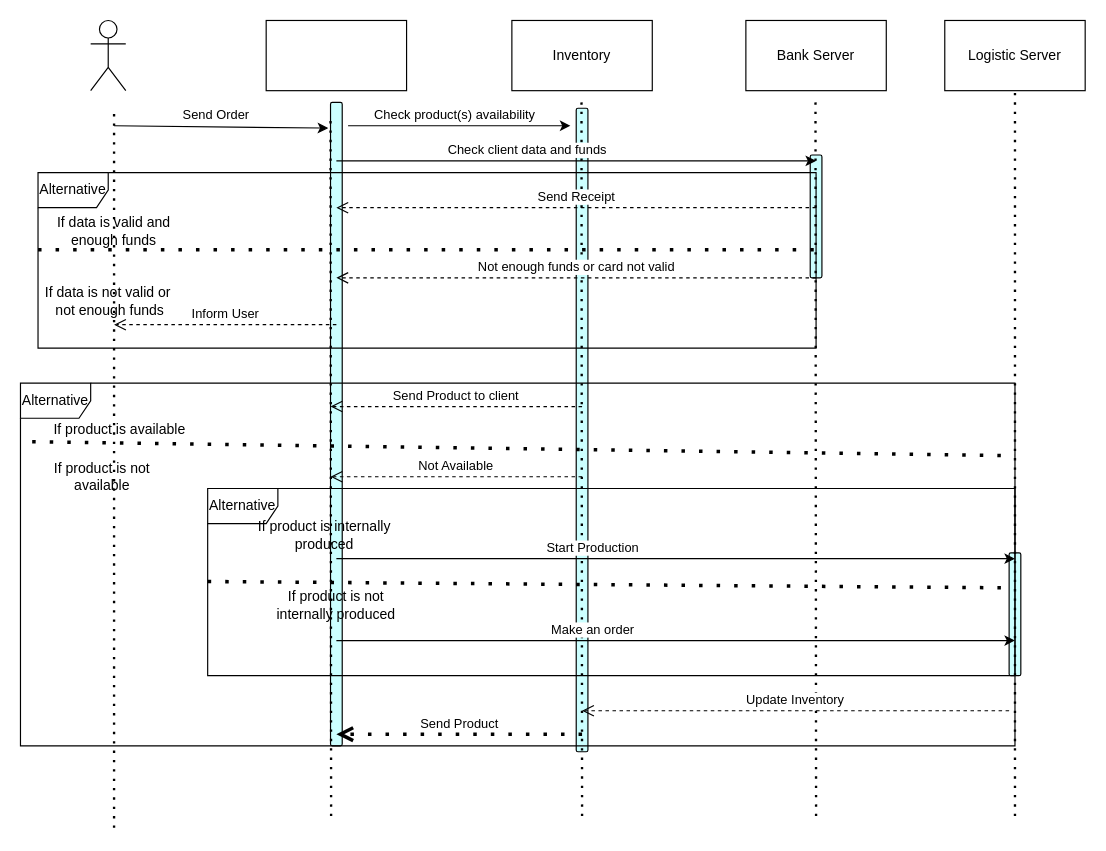
Some shapes in this 1106 by 851 pixel diagram are drawn without their labels. The shapes that lost their labels are listed below. From the top down, each one's centre as x and y in pixels, then its label:
At (x=108, y=55): "Actor".
At (x=336, y=55): "Website".
